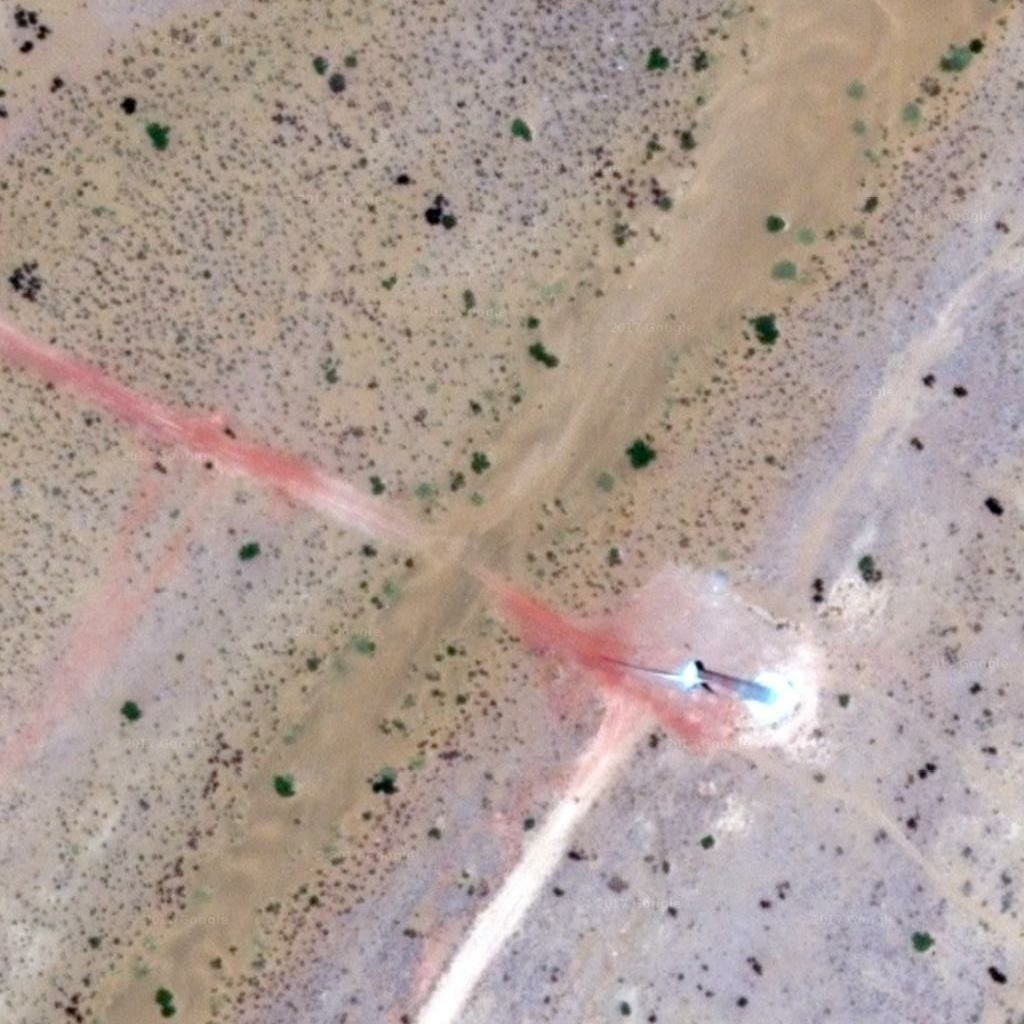Windmill: (606, 642, 775, 706)
